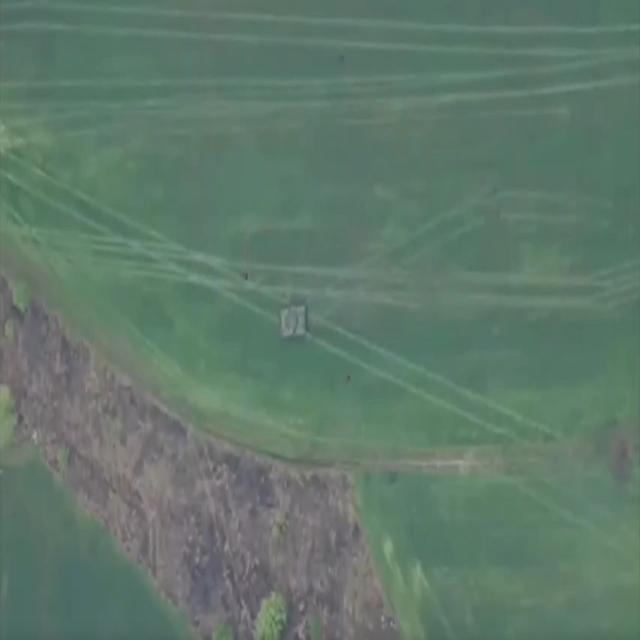MBT: (278, 304, 316, 344)
